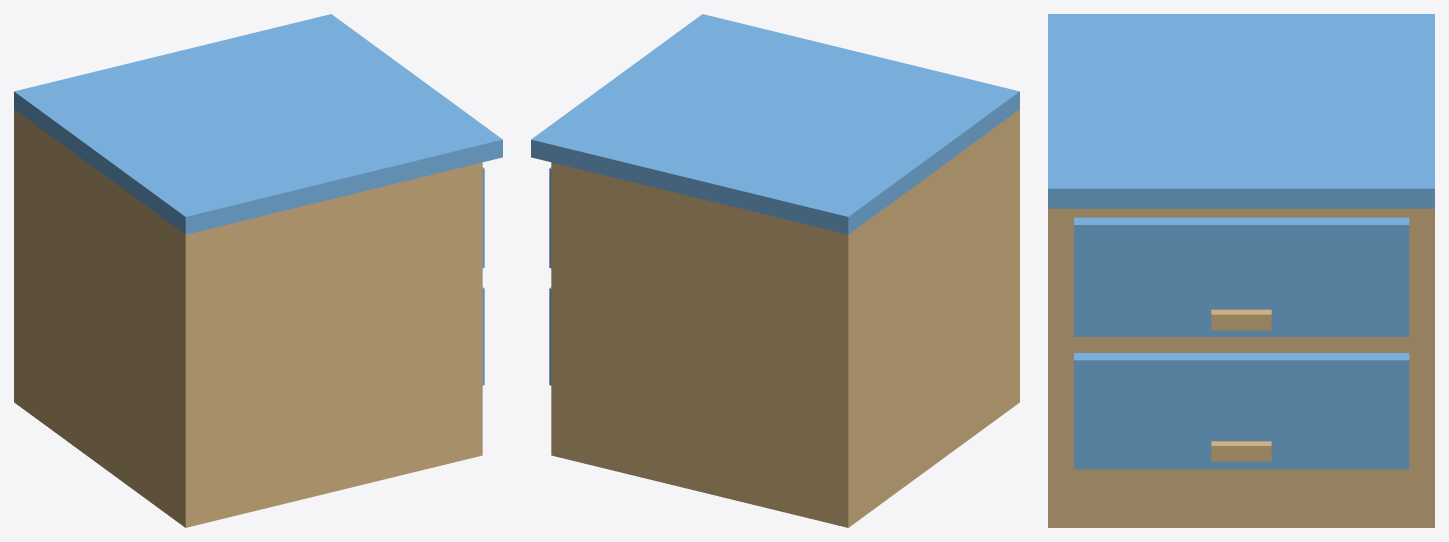
Rendered from Countertop_2Doors.fbx.
The picture shows the model from 3 angles, left to right: view 1: azimuth 30°, elevation 25°; view 2: azimuth 150°, elevation 25°; view 3: azimuth 270°, elevation 25°; orthographic projection. The views are drawn at different scales.
Parts seen in each view (by area): view 1: Cube; view 2: Cube; view 3: Cube.
Boxes of the visible parts, bbox=[...] form: Cube: bbox=[14, 14, 502, 527]; Cube: bbox=[531, 14, 1019, 527]; Cube: bbox=[1048, 14, 1434, 527].
Bounding box in the file's own units: 215 × 200 × 200.
